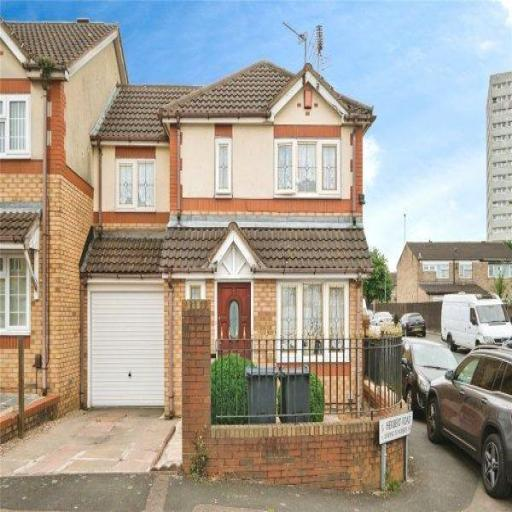door: (205, 271, 260, 405)
